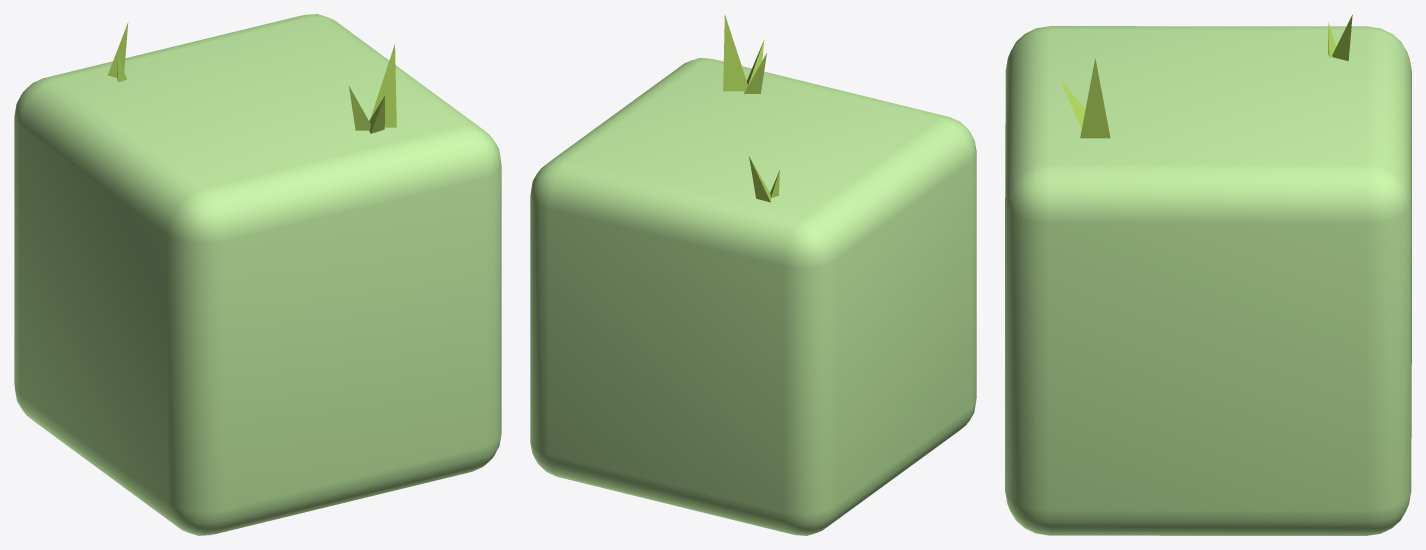
File: safe1.fbx
3 views of the same model, side by side, from view 1: azimuth 30°, elevation 25°; view 2: azimuth 150°, elevation 25°; view 3: azimuth 270°, elevation 25° (orthographic). The views are drawn at different scales.
Visible parts, largest first — view 1: Cube.035; view 2: Cube.035; view 3: Cube.035.
Part boxes in pixels (box(x1,y1,x2,y2)): Cube.035: box(14, 14, 501, 535); Cube.035: box(530, 14, 976, 535); Cube.035: box(1005, 14, 1411, 535).
Bounding box in the file's own units: 200 × 245 × 200.
